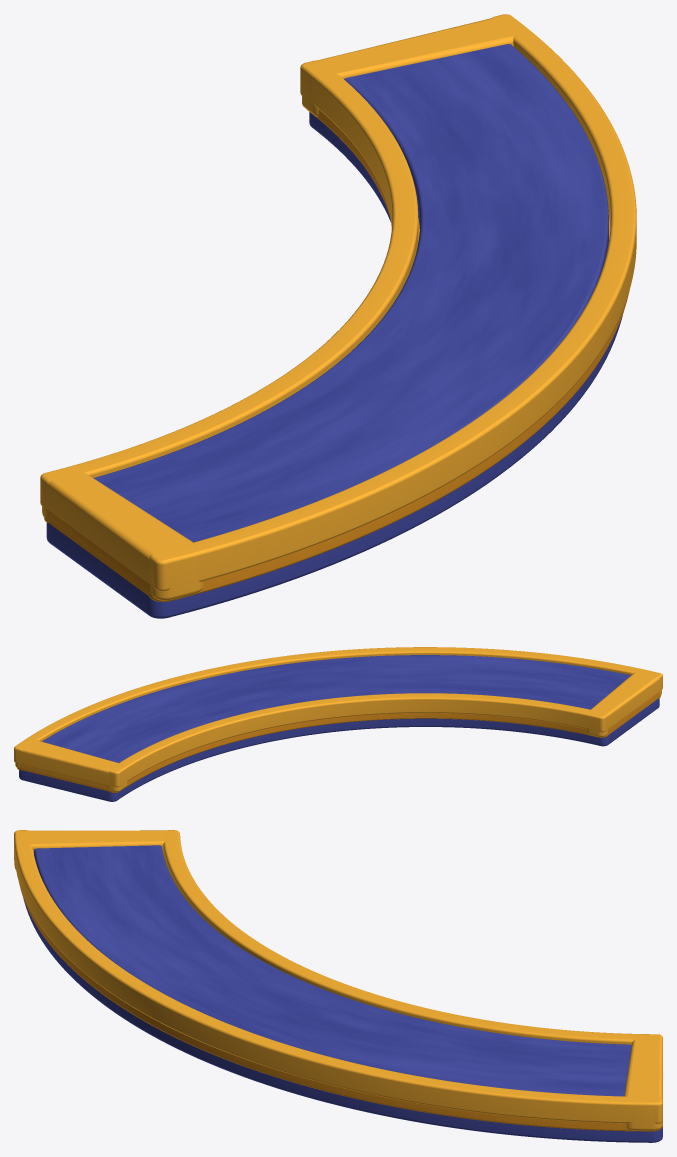
The model's file is CurvedFloorInlay.glb.
The picture shows the model from 3 angles, top to bottom: view 1: azimuth 30°, elevation 25°; view 2: azimuth 150°, elevation 25°; view 3: azimuth 270°, elevation 25°; orthographic projection. The views are drawn at different scales.
Parts seen in each view (by area): view 1: BlueCurvedInset, OuterGoldArcRail, InnerGoldArcRail, BlueCurvedCarrier, EndGoldEndCap, GoldLowerFrameBed, StartGoldEndCap; view 2: BlueCurvedInset, InnerGoldArcRail, OuterGoldArcRail, BlueCurvedCarrier, GoldLowerFrameBed, StartGoldEndCap, EndGoldEndCap; view 3: BlueCurvedInset, OuterGoldArcRail, InnerGoldArcRail, BlueCurvedCarrier, GoldLowerFrameBed, StartGoldEndCap, EndGoldEndCap.
Part boxes in pixels (x1,y1,x2,y2): BlueCurvedInset: [93, 44, 608, 542]; OuterGoldArcRail: [149, 14, 636, 591]; InnerGoldArcRail: [40, 60, 418, 507]; BlueCurvedCarrier: [46, 112, 622, 618]; EndGoldEndCap: [42, 468, 202, 600]; GoldLowerFrameBed: [44, 109, 629, 601]; StartGoldEndCap: [302, 16, 523, 116]; BlueCurvedInset: [42, 655, 630, 762]; InnerGoldArcRail: [109, 693, 608, 787]; OuterGoldArcRail: [14, 647, 662, 762]; BlueCurvedCarrier: [19, 698, 659, 801]; GoldLowerFrameBed: [17, 691, 660, 792]; StartGoldEndCap: [15, 740, 127, 792]; EndGoldEndCap: [586, 670, 661, 737]; BlueCurvedInset: [34, 845, 631, 1096]; OuterGoldArcRail: [14, 830, 662, 1123]; InnerGoldArcRail: [163, 830, 662, 1044]; BlueCurvedCarrier: [23, 898, 662, 1142]; GoldLowerFrameBed: [19, 883, 662, 1131]; StartGoldEndCap: [624, 1035, 662, 1130]; EndGoldEndCap: [14, 830, 175, 869].
Bounding box in the file's own units: 1.03 × 0.08 × 1.03.
Materials: 7 (7 with a texture image).
